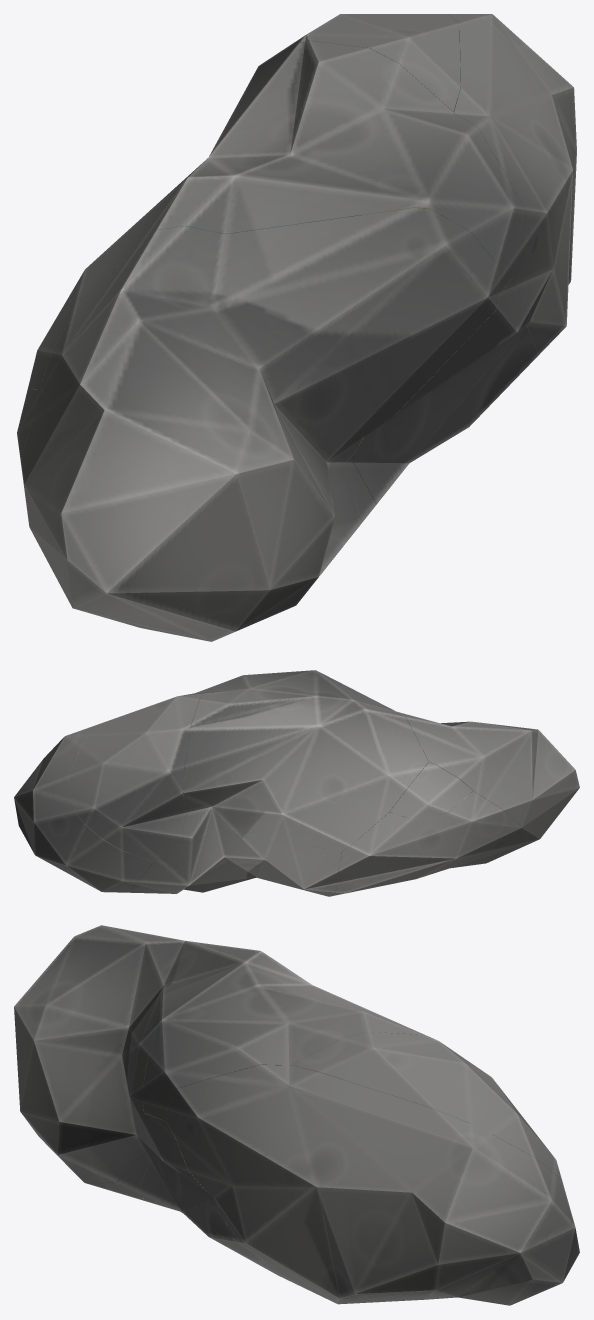
File: silverFract 1.fbx
The picture shows the model from 3 angles, top to bottom: view 1: azimuth 30°, elevation 25°; view 2: azimuth 150°, elevation 25°; view 3: azimuth 270°, elevation 25°; orthographic projection. The views are drawn at different scales.
Parts seen in each view (by area): view 1: SilverAster_cell.003, SilverAster_cell, SilverAster_cell.005, SilverAster_cell.002, SilverAster_cell.001, SilverAster_cell.004, SilverAster_cell.006; view 2: SilverAster_cell, SilverAster_cell.001, SilverAster_cell.003, SilverAster_cell.004, SilverAster_cell.005, SilverAster_cell.002, SilverAster_cell.006; view 3: SilverAster_cell.005, SilverAster_cell.003, SilverAster_cell, SilverAster_cell.001, SilverAster_cell.002, SilverAster_cell.004.
Part boxes in pixels (x1,y1,x2,y2): SilverAster_cell.003: (21, 208, 499, 639); SilverAster_cell: (63, 40, 525, 306); SilverAster_cell.005: (448, 14, 576, 354); SilverAster_cell.002: (353, 276, 538, 504); SilverAster_cell.001: (253, 14, 460, 111); SilverAster_cell.004: (17, 388, 376, 641); SilverAster_cell.006: (28, 299, 83, 389); SilverAster_cell: (182, 670, 428, 851); SilverAster_cell.001: (68, 692, 210, 861); SilverAster_cell.003: (324, 674, 579, 846); SilverAster_cell.004: (335, 791, 526, 895); SilverAster_cell.005: (14, 683, 220, 892); SilverAster_cell.002: (127, 831, 341, 896); SilverAster_cell.006: (390, 762, 472, 818); SilverAster_cell.005: (166, 1064, 579, 1305); SilverAster_cell.003: (14, 925, 225, 1183); SilverAster_cell: (142, 946, 429, 1121); SilverAster_cell.001: (292, 1032, 561, 1179); SilverAster_cell.002: (137, 1113, 431, 1304); SilverAster_cell.004: (89, 1152, 182, 1212).
Size of the model in its own units: 618 by 279 by 534.
Materials: 1 (1 with a texture image).
